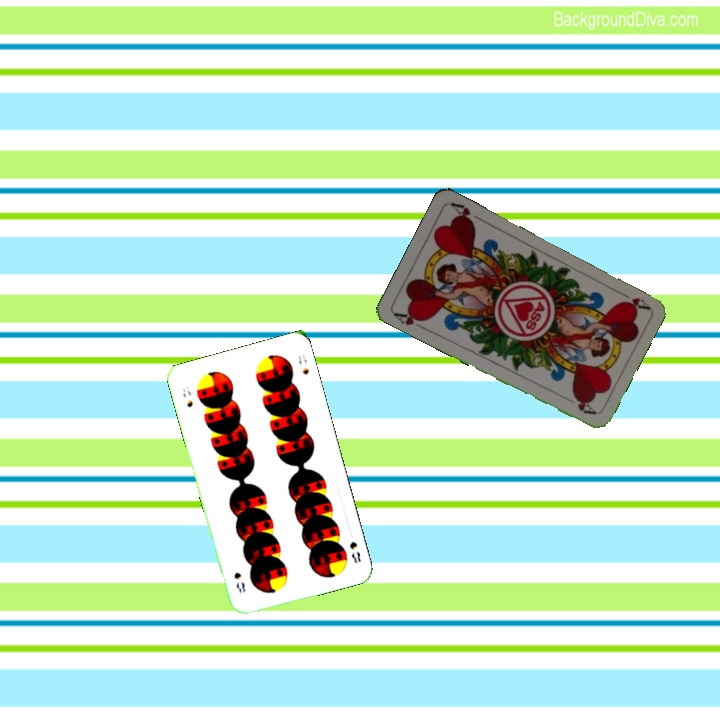HA: (390, 307, 429, 332), (613, 287, 652, 312)
S8: (345, 537, 363, 566), (179, 382, 196, 410)
